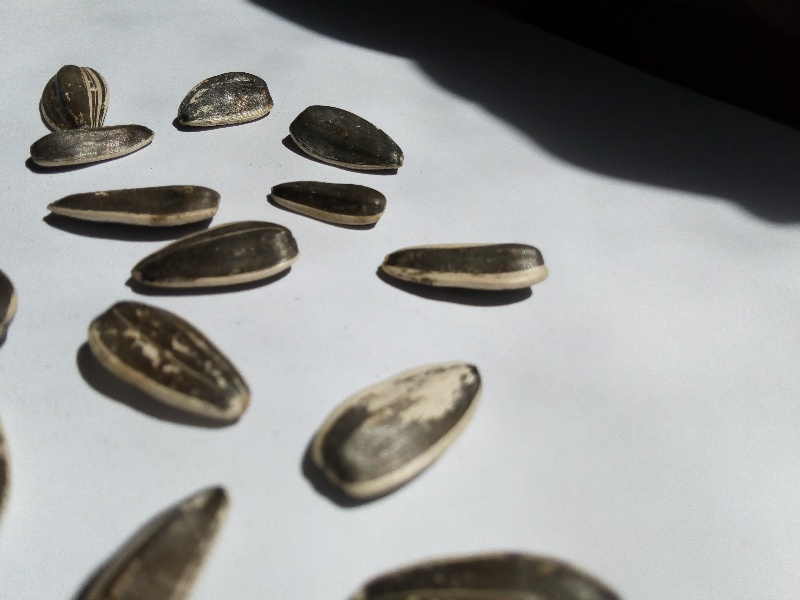w: (290, 350, 508, 515), (76, 296, 268, 438), (378, 236, 558, 309), (286, 97, 422, 177), (172, 68, 281, 136)
